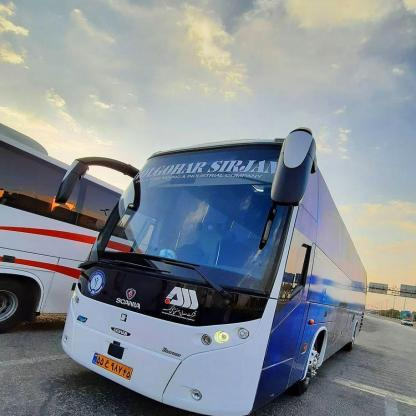Bus: (53, 118, 381, 416), (0, 101, 129, 333)
